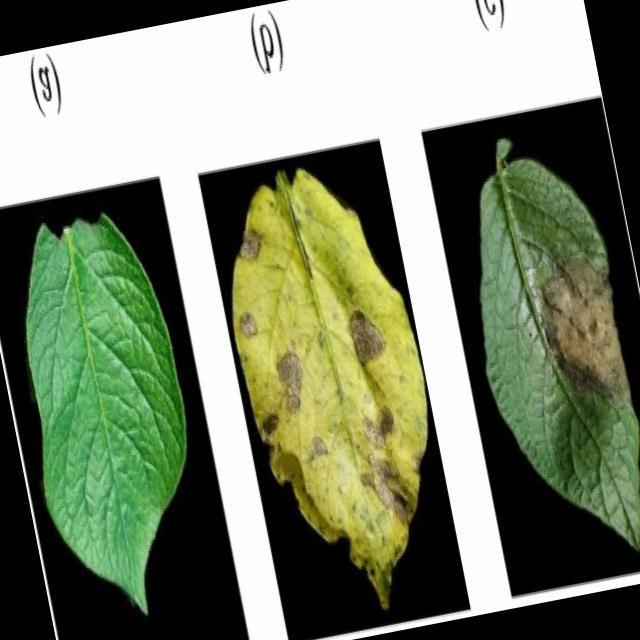Healthy Leaf: (0, 195, 224, 628)
